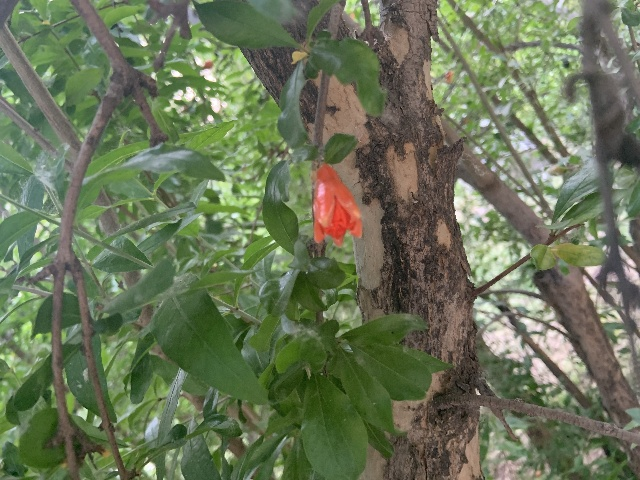flower: (310, 162, 362, 246)
